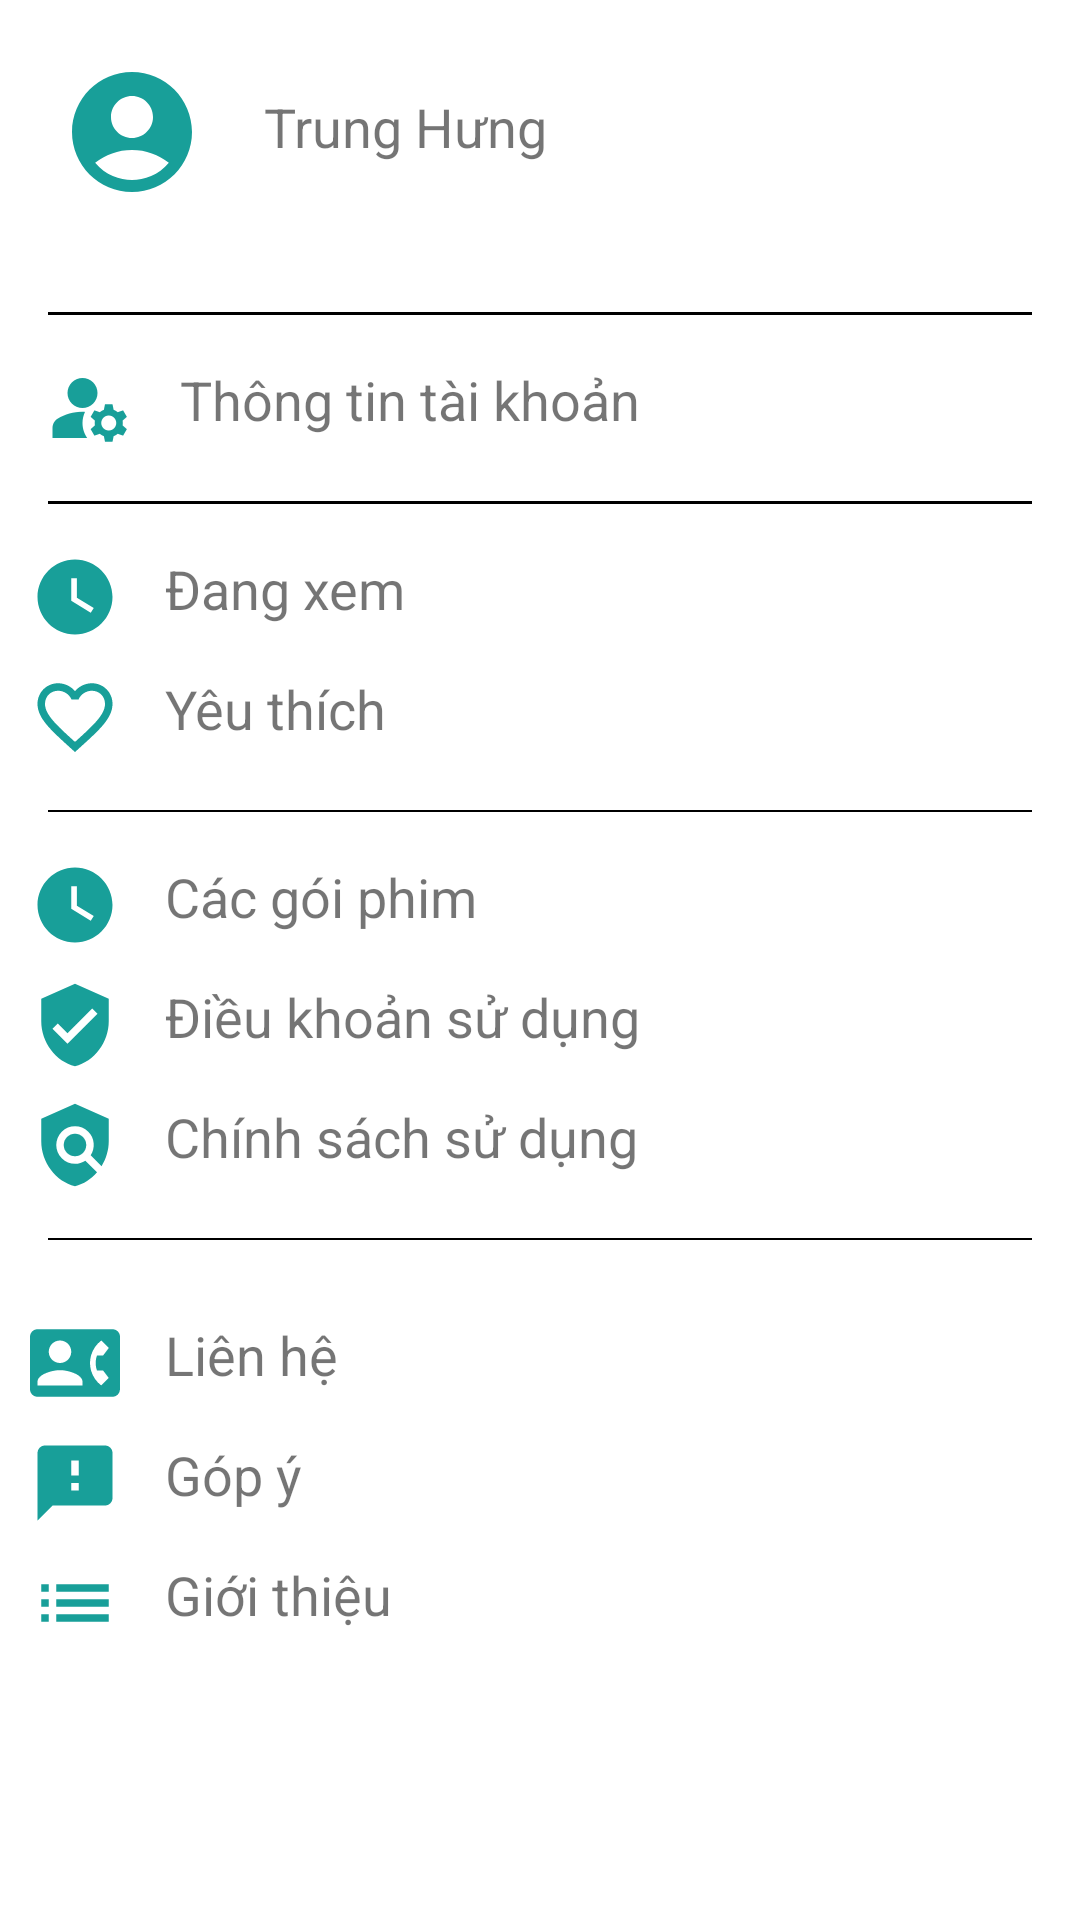

Locate icon controls on the screen. Image size 1080px×1920px, boxes as region(x1, y1, x2, y2).
account circle: region(72, 72, 192, 192)
contact phone: region(30, 1329, 120, 1397)
favorite border: region(37, 683, 113, 752)
feedback: region(37, 1445, 113, 1521)
list: region(41, 1584, 109, 1622)
manage accounts: region(52, 378, 127, 442)
policy: region(41, 1104, 109, 1187)
verified user: region(41, 984, 109, 1067)
watch later: region(37, 559, 113, 635), region(37, 867, 113, 943)
